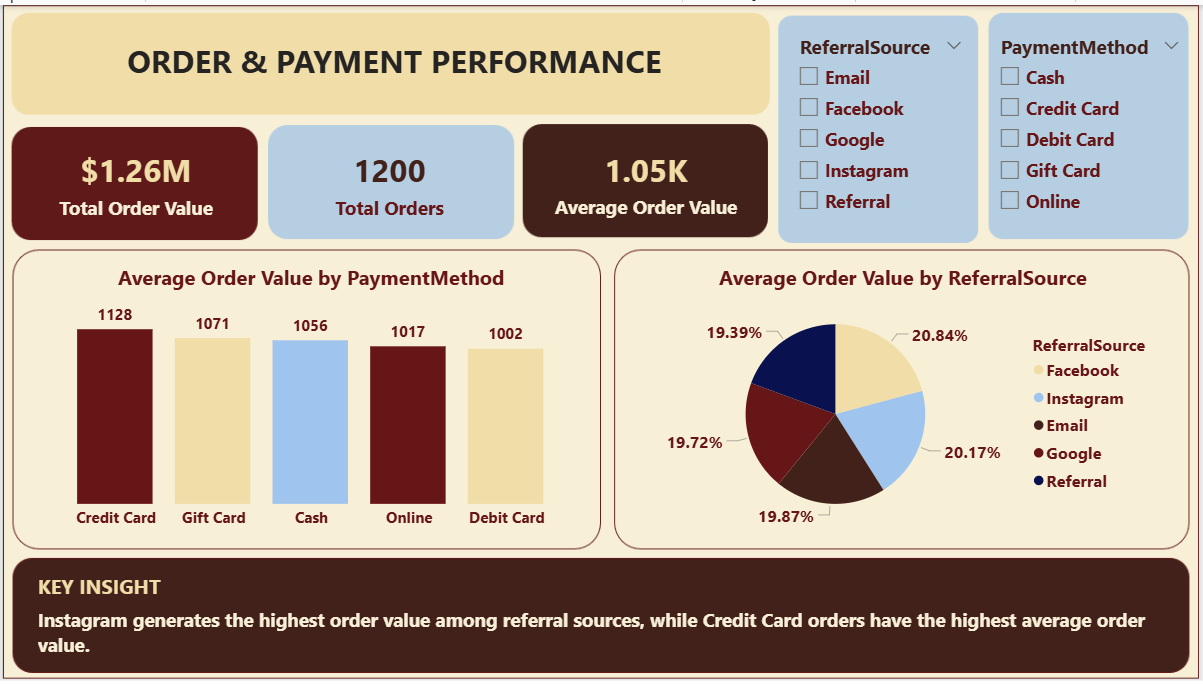

The dashboard page shown, as its layout file describes it:
{"tool":"powerbi","page":{"name":"ORDER & PAYMENT PERFORMANCE","canvas":[1280,720],"ordinal":2},"visuals":[{"type":"textbox","title":"ORDER & PAYMENT PERFORMANCE","box":[15.9,36.6,811.2,79.5],"z":0},{"type":"card","fields":{"Values":["Cleaned Data.Total Order Value"]},"box":[15.9,130.4,262.5,116.1],"z":1000},{"type":"card","fields":{"Values":["Cleaned Data.Total Orders"]},"box":[292.7,130.4,246.5,116.1],"z":2000},{"type":"card","fields":{"Values":["Cleaned Data.Average Order Value"]},"box":[564.7,128.8,246.5,117.7],"z":3000},{"type":"slicer","fields":{"Values":["Cleaned Data.ReferralSource"]},"box":[838.3,25.4,197.2,208.4],"z":4000},{"type":"slicer","fields":{"Values":["Cleaned Data.PaymentMethod"]},"box":[1051.4,25.4,214.7,221.1],"z":5000},{"type":"columnChart","fields":{"Y":["Cleaned Data.Average Order Value"],"Category":["Cleaned Data.PaymentMethod"]},"box":[38.2,273.6,590.1,291.1],"z":6000},{"type":"pieChart","fields":{"Y":["Cleaned Data.Average Order Value"],"Category":["Cleaned Data.ReferralSource"]},"box":[674.4,273.6,572.6,291.1],"z":7000},{"type":"textbox","title":"KEY INSIGHT","box":[38.2,601.3,1242.3,36.6],"z":8000},{"type":"textbox","title":"Instagram generates the highest order value among referral sources, while Credit Card orders have the highest average order value.","box":[38.2,637.8,1208.9,62],"z":9000}]}

Visuals, with their boxes in screenshot pixels (x1, y1, x2, y2), scaled from the page's 1280x720 canvas onto the 1203x684 screenshot:
"ORDER & PAYMENT PERFORMANCE" textbox: bbox=[15, 35, 777, 110]
card - Cleaned Data.Total Order Value: bbox=[15, 124, 262, 234]
card - Cleaned Data.Total Orders: bbox=[275, 124, 507, 234]
card - Cleaned Data.Average Order Value: bbox=[531, 122, 762, 234]
slicer - Cleaned Data.ReferralSource: bbox=[788, 24, 973, 222]
slicer - Cleaned Data.PaymentMethod: bbox=[988, 24, 1190, 234]
columnChart - Cleaned Data.Average Order Value x Cleaned Data.PaymentMethod: bbox=[36, 260, 591, 536]
pieChart - Cleaned Data.Average Order Value x Cleaned Data.ReferralSource: bbox=[634, 260, 1172, 536]
"KEY INSIGHT" textbox: bbox=[36, 571, 1202, 606]
"Instagram generates the highest order value among referral sources, while Credit Card orders have the highest average order value." textbox: bbox=[36, 606, 1172, 665]
